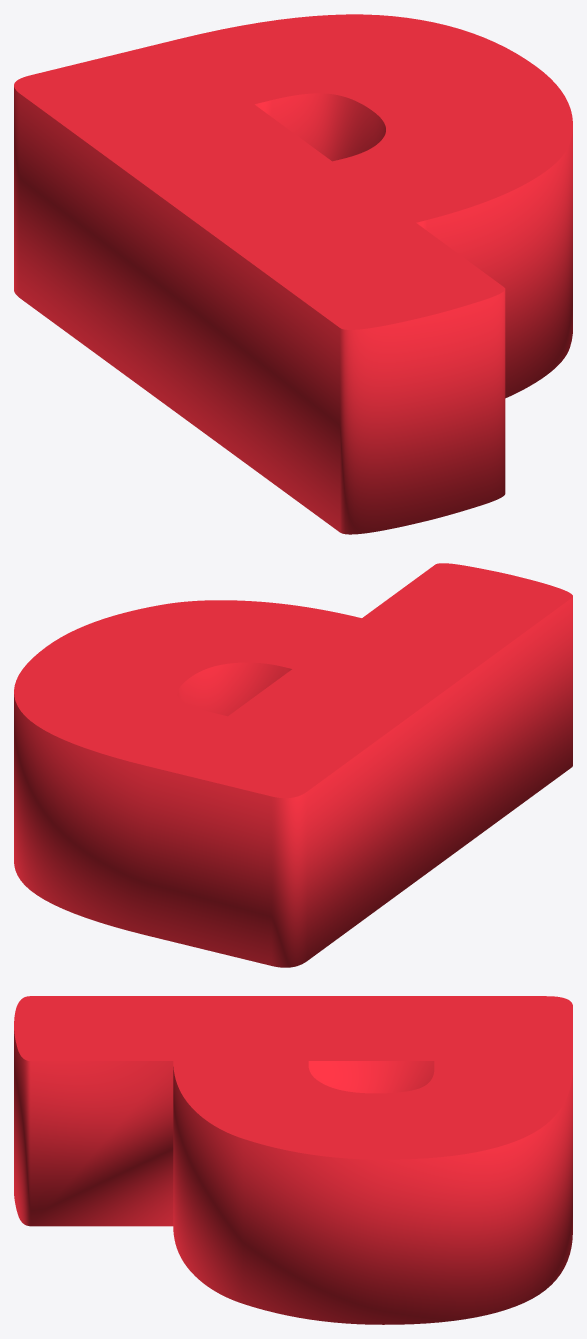
3 views of the same model, one above another, from view 1: azimuth 30°, elevation 25°; view 2: azimuth 150°, elevation 25°; view 3: azimuth 270°, elevation 25° (orthographic). The views are drawn at different scales.
Visible parts, largest first — view 1: p; view 2: p; view 3: p.
Boxes of the visible parts, bbox=[...] form: p: bbox=[14, 14, 572, 534]; p: bbox=[14, 563, 572, 967]; p: bbox=[14, 996, 572, 1324].
Bounding box in the file's own units: 0.2228 × 0.1049 × 0.3218.
